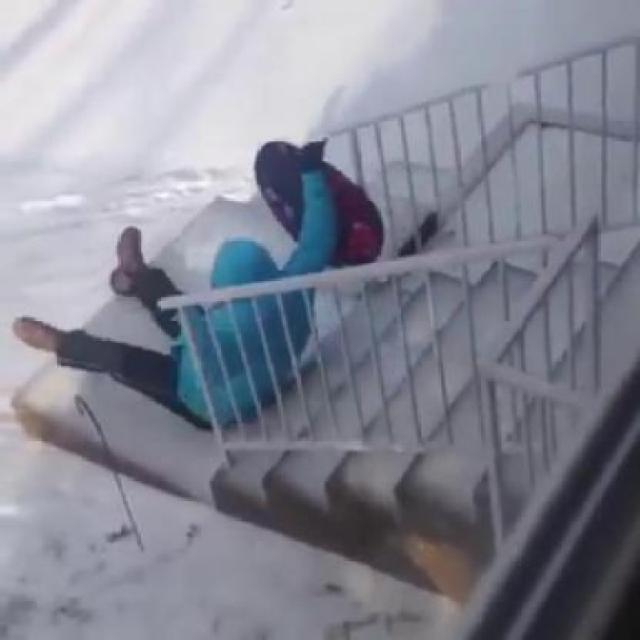fall: (12, 135, 326, 423)
